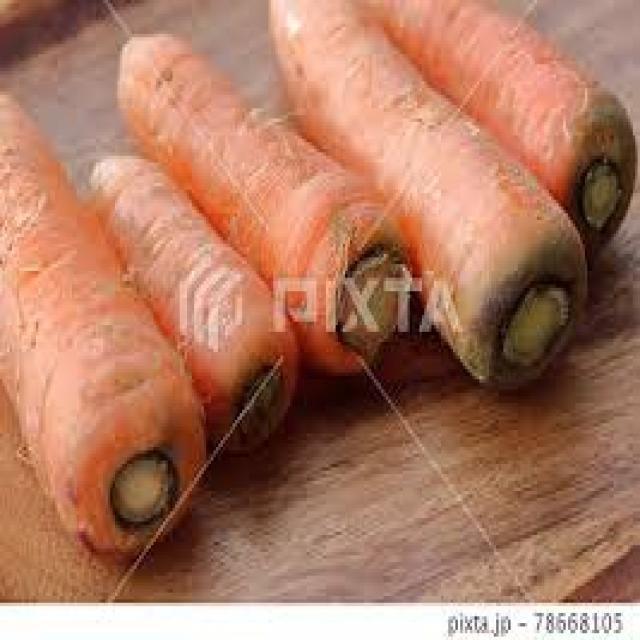Stale_Carrot: (271, 4, 587, 386), (0, 94, 205, 554), (117, 34, 380, 373), (91, 157, 277, 430)
